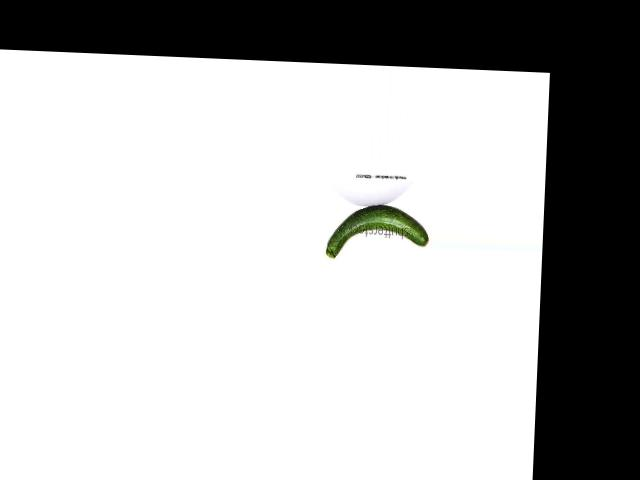cucumber: (325, 203, 429, 262)
